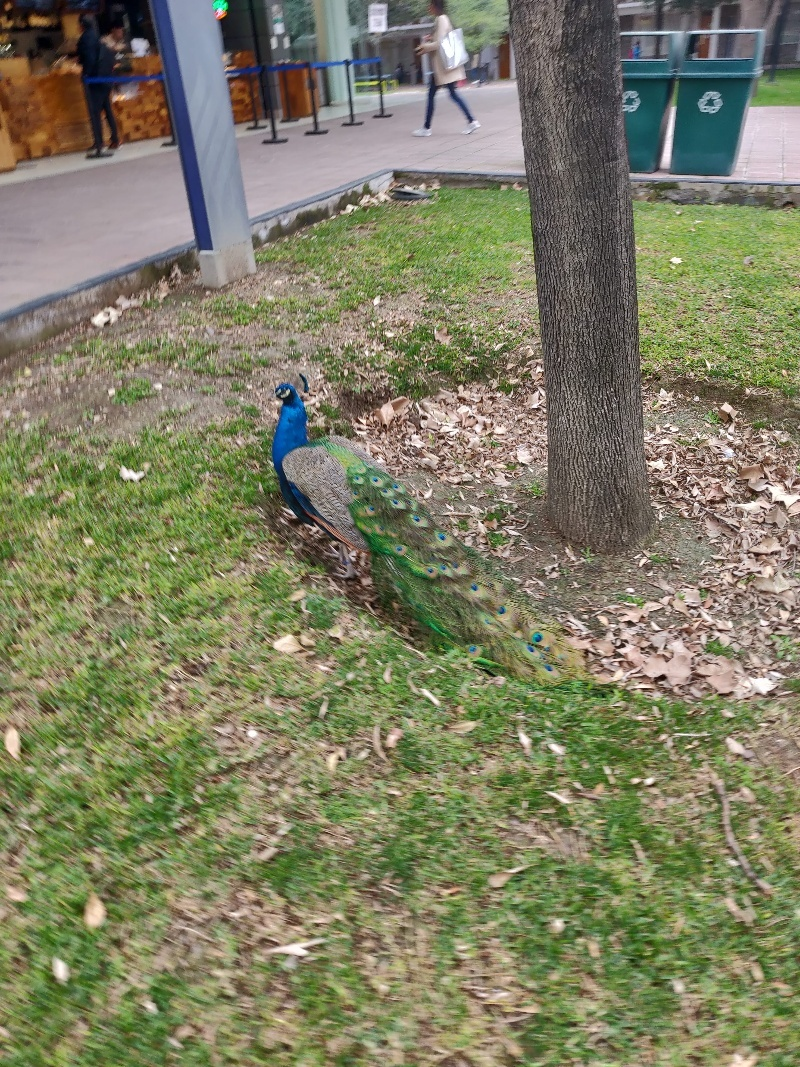pavoreal: (270, 378, 364, 552)
